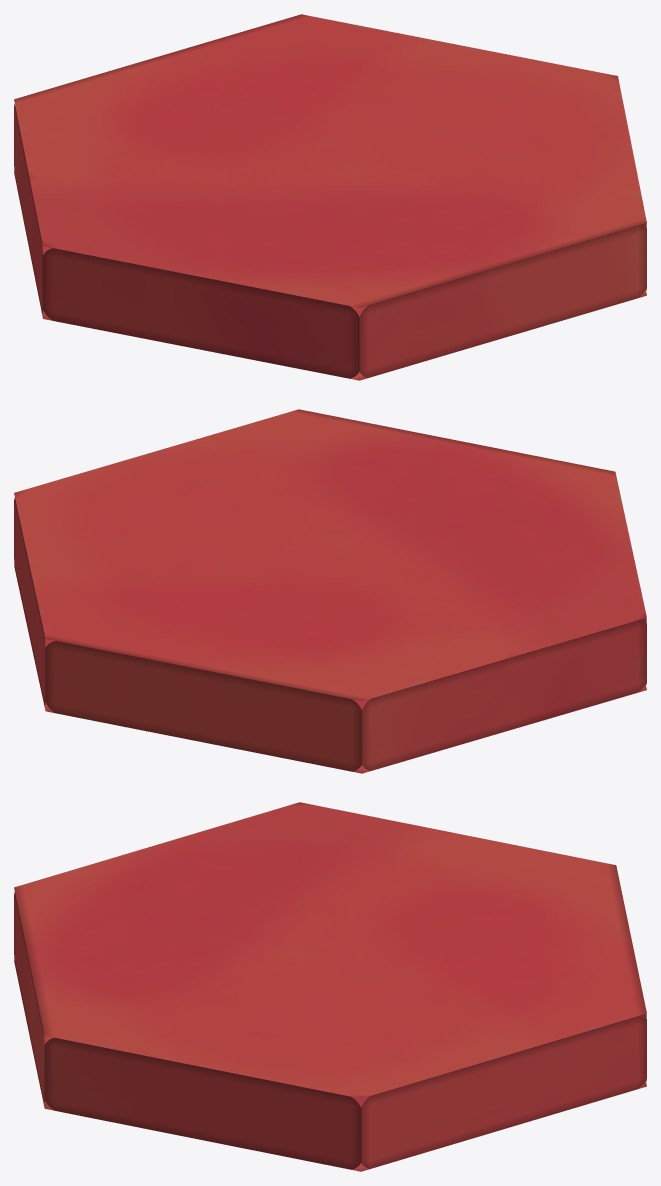
The model's file is Kotleta.fbx.
3 renders of one model, top to bottom at view 1: azimuth 30°, elevation 25°; view 2: azimuth 150°, elevation 25°; view 3: azimuth 270°, elevation 25°, orthographic.
Visible parts, largest first — view 1: Kotleta; view 2: Kotleta; view 3: Kotleta.
Boxes of the visible parts, box(x1,y1,x2,y2) form: Kotleta: box(14, 14, 646, 380); Kotleta: box(14, 409, 646, 773); Kotleta: box(14, 802, 646, 1171).
Bounding box in the file's own units: 54.4 × 6.25 × 49.08.
Materials: 1 (1 with a texture image).
